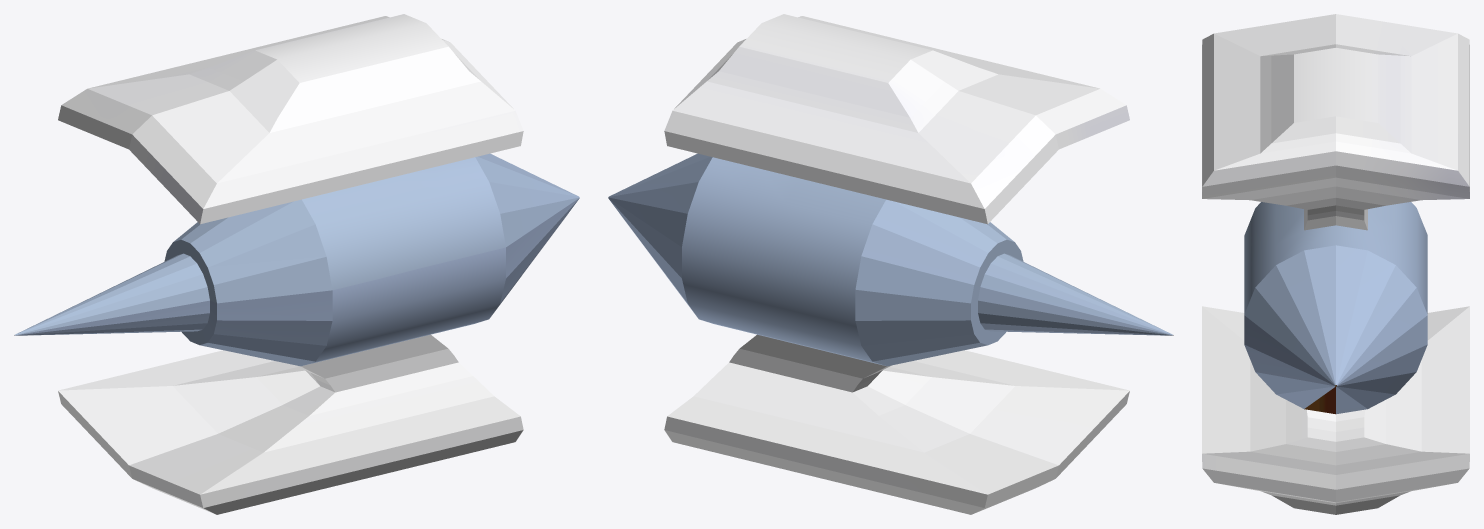
Rendered from Boomerang.FBX.
3 views of the same model, side by side, from view 1: azimuth 30°, elevation 25°; view 2: azimuth 150°, elevation 25°; view 3: azimuth 270°, elevation 25° (orthographic). The views are drawn at different scales.
Parts seen in each view (by area): view 1: Cylinder001; view 2: Cylinder001; view 3: Cylinder001.
Part boxes in pixels (bbox=[...]): Cylinder001: bbox=[14, 14, 579, 514]; Cylinder001: bbox=[608, 14, 1173, 514]; Cylinder001: bbox=[1202, 14, 1469, 514].
Bounding box in the file's own units: 97.61 × 69.93 × 42.59.
1 material, 1 textured.
